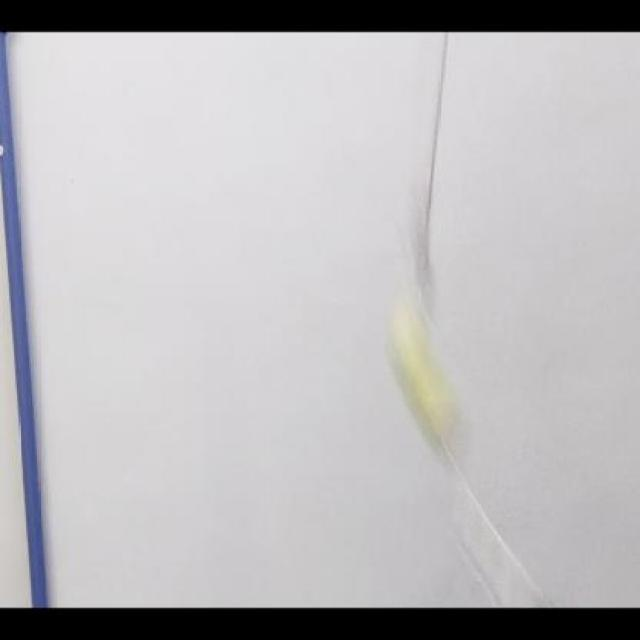baseball: (383, 299, 462, 467)
